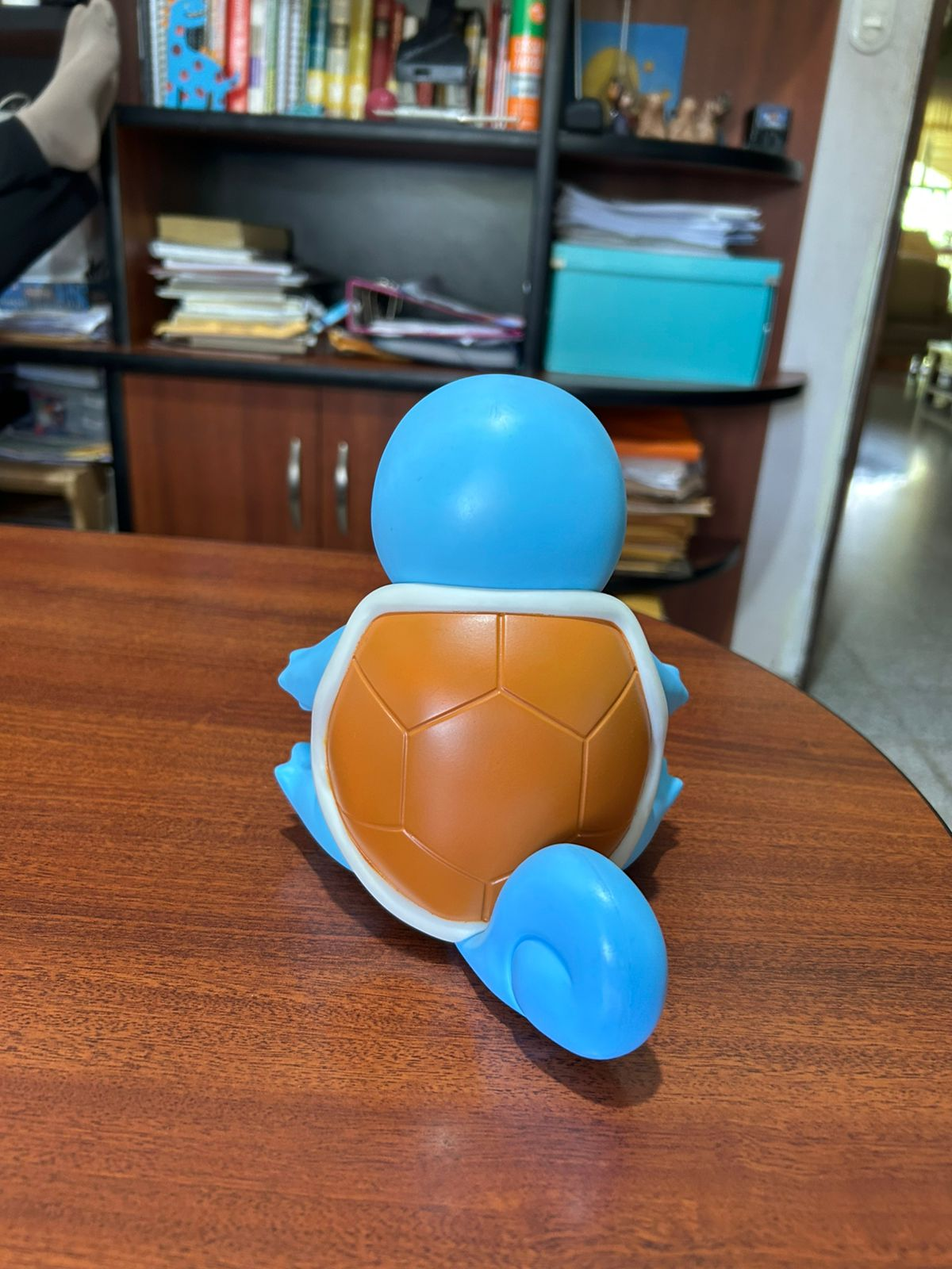Squirtle: (276, 375, 685, 1057)
